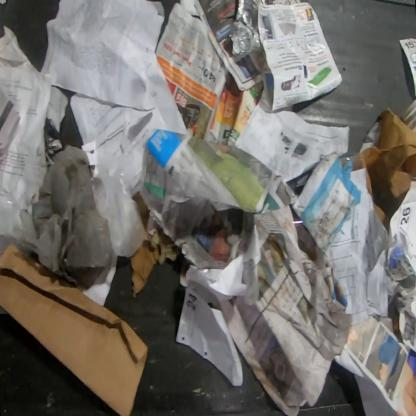cardboard: (0, 239, 150, 415), (360, 107, 415, 232), (129, 190, 182, 299)
metal: (227, 0, 269, 64)
soft_plastic: (31, 143, 113, 291), (92, 121, 146, 258), (0, 191, 18, 258), (292, 216, 318, 261), (337, 150, 364, 172)
